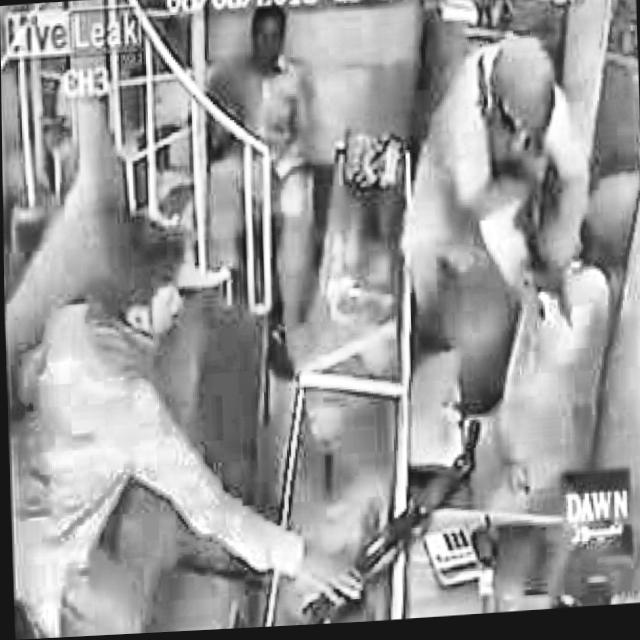Weapon: (412, 12, 616, 500), (90, 183, 237, 420), (228, 7, 359, 112)
